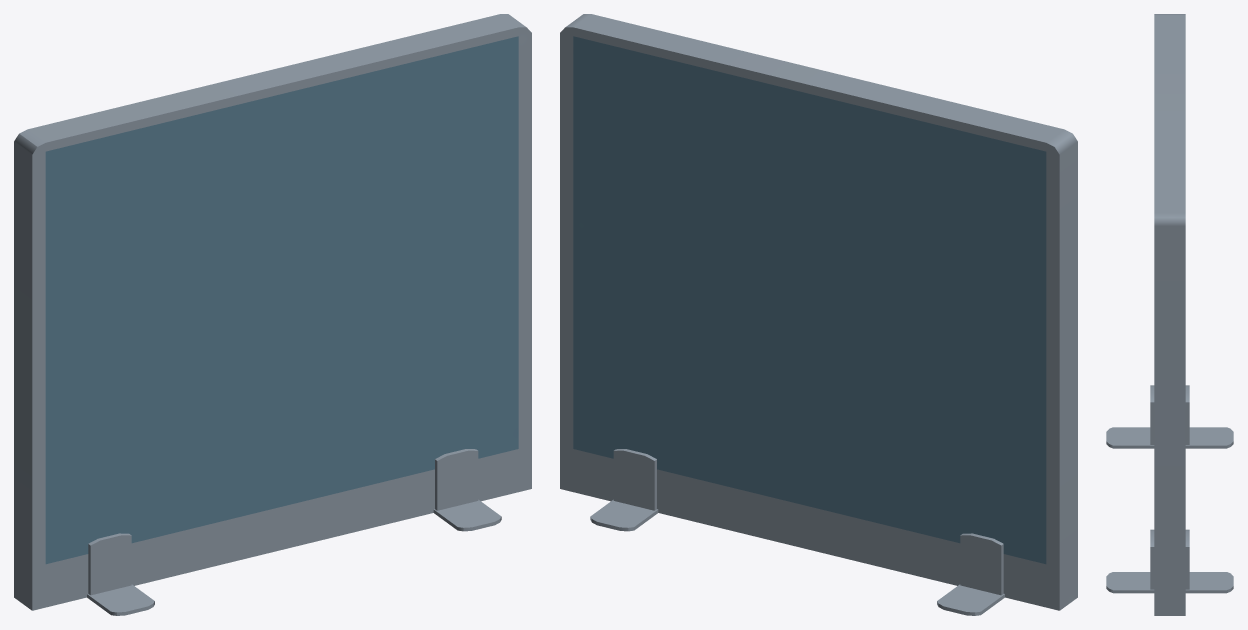
File: multimedia_partition.fbx
The picture shows the model from 3 angles, left to right: view 1: azimuth 30°, elevation 25°; view 2: azimuth 150°, elevation 25°; view 3: azimuth 270°, elevation 25°; orthographic projection. The views are drawn at different scales.
Visible parts, largest first — view 1: multimedia_partition; view 2: multimedia_partition; view 3: multimedia_partition.
Part boxes in pixels (x1=…): multimedia_partition: x1=14, y1=14, x2=531, y2=615; multimedia_partition: x1=560, y1=14, x2=1077, y2=615; multimedia_partition: x1=1106, y1=14, x2=1233, y2=615.
Bounding box in the file's own units: 0.0104 × 0.00926 × 0.00268.
Materials: 1 (1 with a texture image).
